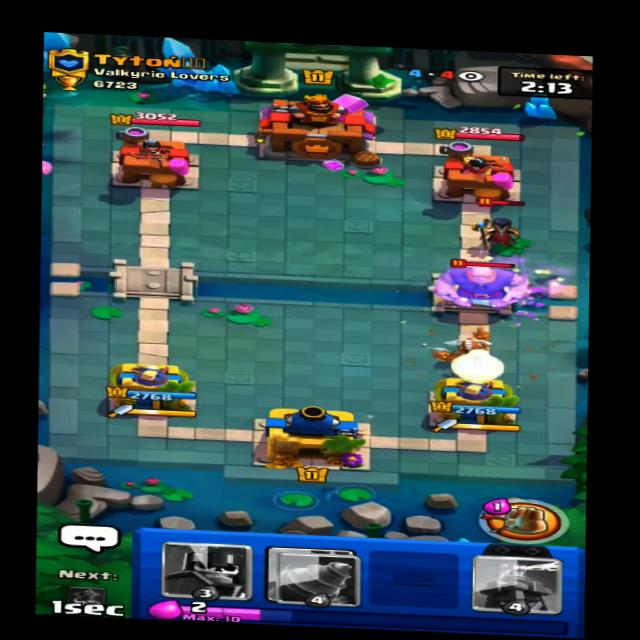giant: (439, 252, 537, 311)
night-witch: (471, 205, 537, 250)
